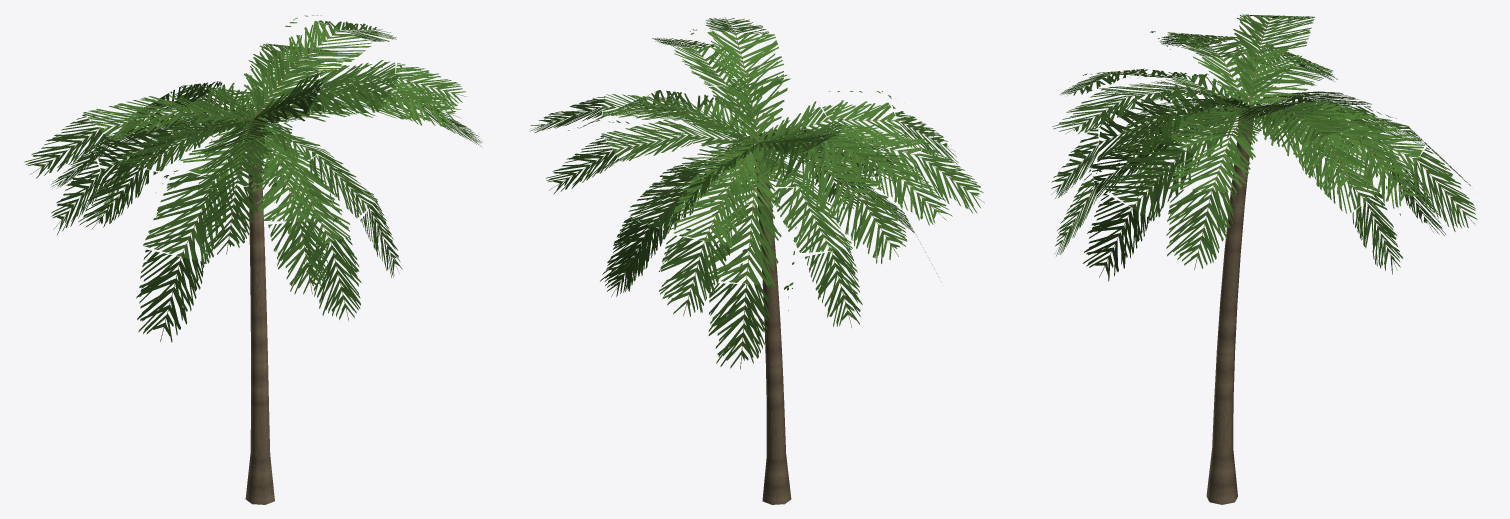
Rendered from near.glb.
3 views of the same model, side by side, from view 1: azimuth 30°, elevation 25°; view 2: azimuth 150°, elevation 25°; view 3: azimuth 270°, elevation 25° (orthographic). The views are drawn at different scales.
Visible parts, largest first — view 1: palm_03; view 2: palm_03; view 3: palm_03.
Boxes of the visible parts, left/top/right/bottom form: palm_03: left=24, top=15, right=482, bottom=504; palm_03: left=530, top=17, right=984, bottom=504; palm_03: left=1051, top=14, right=1477, bottom=504.
Bounding box in the file's own units: 11.63 × 11.09 × 10.36.
Materials: 2 (2 with a texture image).
